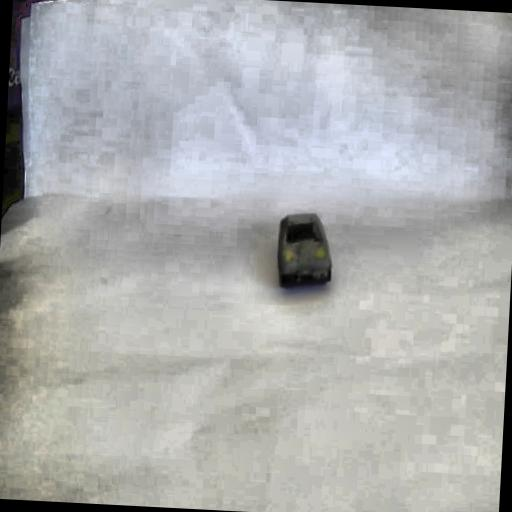normal_car: (274, 211, 336, 290)
